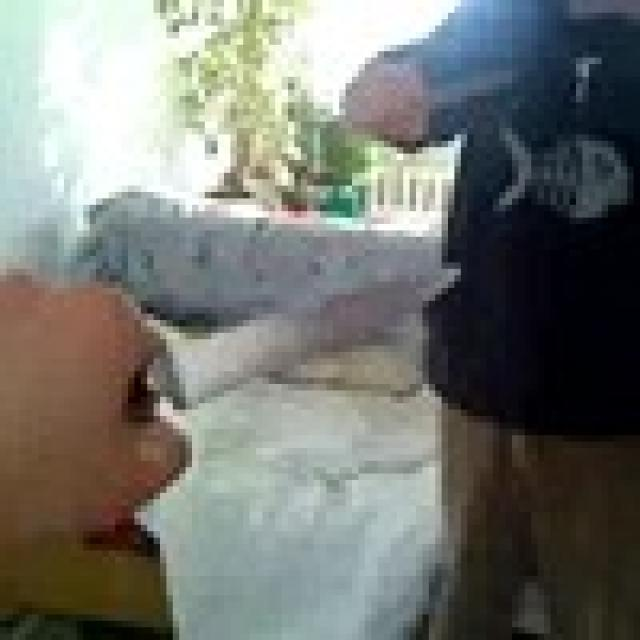Knife_Handle: (0, 266, 461, 547)
